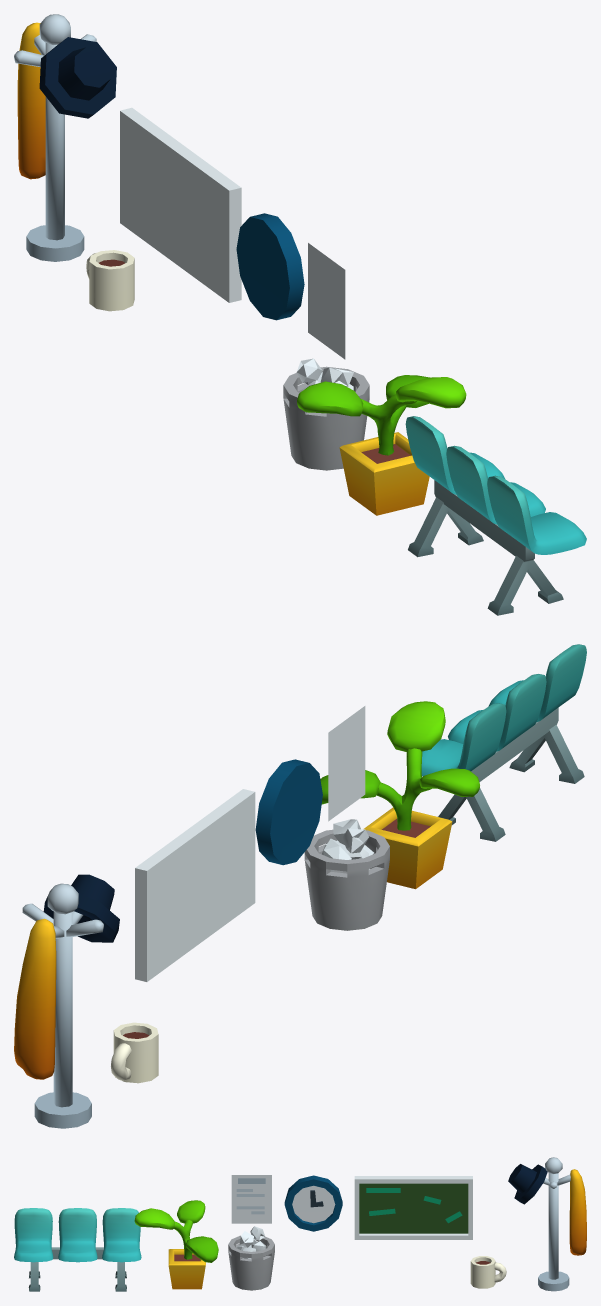
The model's file is CommunalSpaceObjects.fbx.
The picture shows the model from 3 angles, top to bottom: view 1: azimuth 30°, elevation 25°; view 2: azimuth 150°, elevation 25°; view 3: azimuth 270°, elevation 25°; orthographic projection. The views are drawn at different scales.
Visible parts, largest first — view 1: BlackBoard, CoatHanger, Bench, Plant05, Clock, ThrashCan, WhitePoster, CoffeeCup; view 2: BlackBoard, CoatHanger, Bench, Plant05, ThrashCan, Clock, WhitePoster, CoffeeCup; view 3: BlackBoard, Bench, CoatHanger, Plant05, Clock, ThrashCan, WhitePoster, CoffeeCup.
Boxes of the visible parts, box(x1,y1,x2,y2) form: BlackBoard: box(120, 107, 241, 302); CoatHanger: box(14, 14, 116, 261); Bench: box(405, 416, 586, 615); Plant05: box(297, 375, 466, 515); Clock: box(236, 213, 304, 320); ThrashCan: box(283, 366, 369, 470); WhitePoster: box(308, 243, 345, 359); CoffeeCup: box(86, 250, 134, 311); BlackBoard: box(135, 789, 255, 981); CoatHanger: box(14, 874, 119, 1128); Bench: box(421, 644, 586, 841); Plant05: box(320, 701, 479, 889); ThrashCan: box(304, 829, 389, 930); Clock: box(255, 759, 322, 865); WhitePoster: box(328, 706, 365, 821); CoffeeCup: box(111, 1022, 158, 1083); BlackBoard: box(354, 1176, 472, 1239); Bench: box(14, 1208, 141, 1291); CoatHanger: box(508, 1157, 586, 1291); Plant05: box(134, 1200, 218, 1289); Clock: box(284, 1175, 342, 1231); ThrashCan: box(228, 1235, 274, 1290); WhitePoster: box(231, 1175, 271, 1223); CoffeeCup: box(470, 1256, 506, 1288).
Size of the model in its own units: 3513 by 866 by 599.
